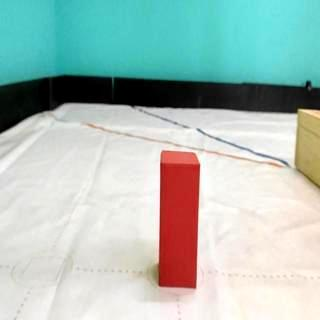redbox: (160, 152, 198, 288)
